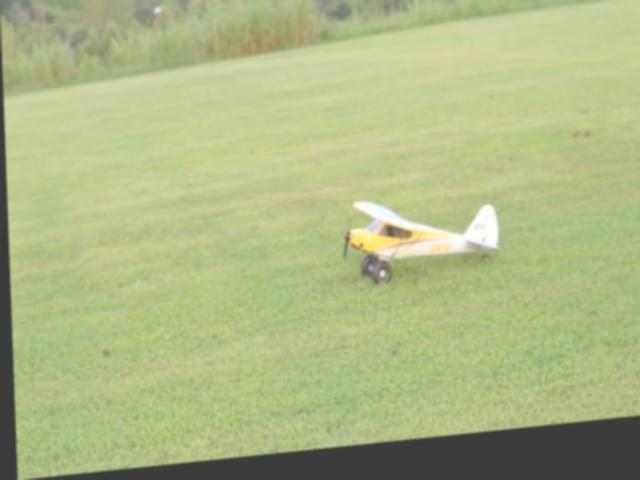uav: (331, 193, 508, 300)
